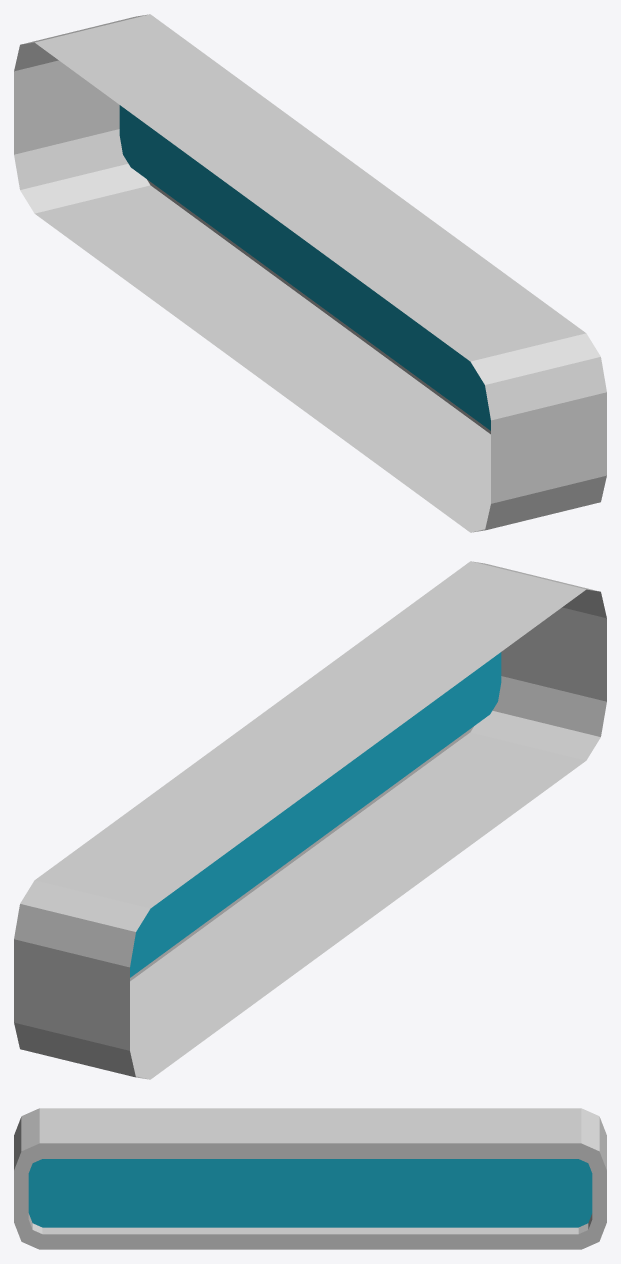
File: breaker_radio_panel.fbx
3 views of the same model, one above another, from view 1: azimuth 30°, elevation 25°; view 2: azimuth 150°, elevation 25°; view 3: azimuth 270°, elevation 25° (orthographic). The views are drawn at different scales.
Visible parts, largest first — view 1: radio panel; view 2: radio panel; view 3: radio panel.
Part boxes in pixels (x1=…): radio panel: x1=14, y1=14, x2=606, y2=532; radio panel: x1=14, y1=561, x2=606, y2=1079; radio panel: x1=14, y1=1108, x2=606, y2=1249.
Bounding box in the file's own units: 6.24 × 8.79 × 44.41.
